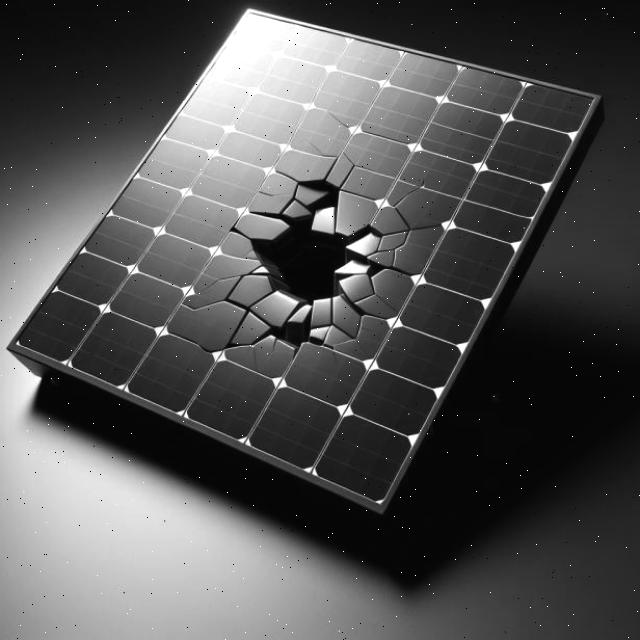Anomaly Solar Panel: (12, 0, 595, 527)
Structural Damage: (205, 151, 427, 377), (154, 258, 292, 375), (388, 173, 430, 210), (323, 110, 352, 130)
